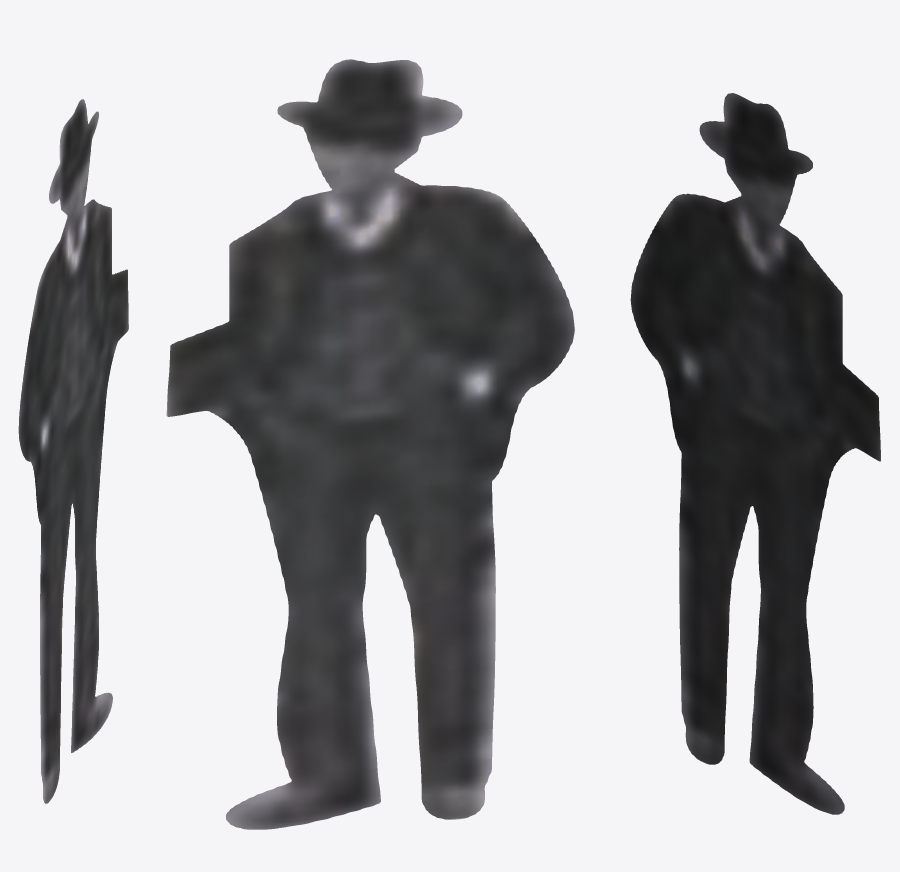
File: Old_Man_Stand.FBX
3 views of the same model, side by side, from view 1: azimuth 30°, elevation 25°; view 2: azimuth 150°, elevation 25°; view 3: azimuth 270°, elevation 25° (orthographic). The views are drawn at different scales.
Visible parts, largest first — view 1: Man_Stand; view 2: Man_Stand; view 3: Man_Stand.
Boxes of the visible parts, left/top/right/bottom form: Man_Stand: left=18, top=99, right=128, bottom=803; Man_Stand: left=166, top=59, right=574, bottom=829; Man_Stand: left=630, top=93, right=880, bottom=814.
Bounding box in the file's own units: 65.79 × 178 × 59.44.
Materials: 1 (1 with a texture image).
